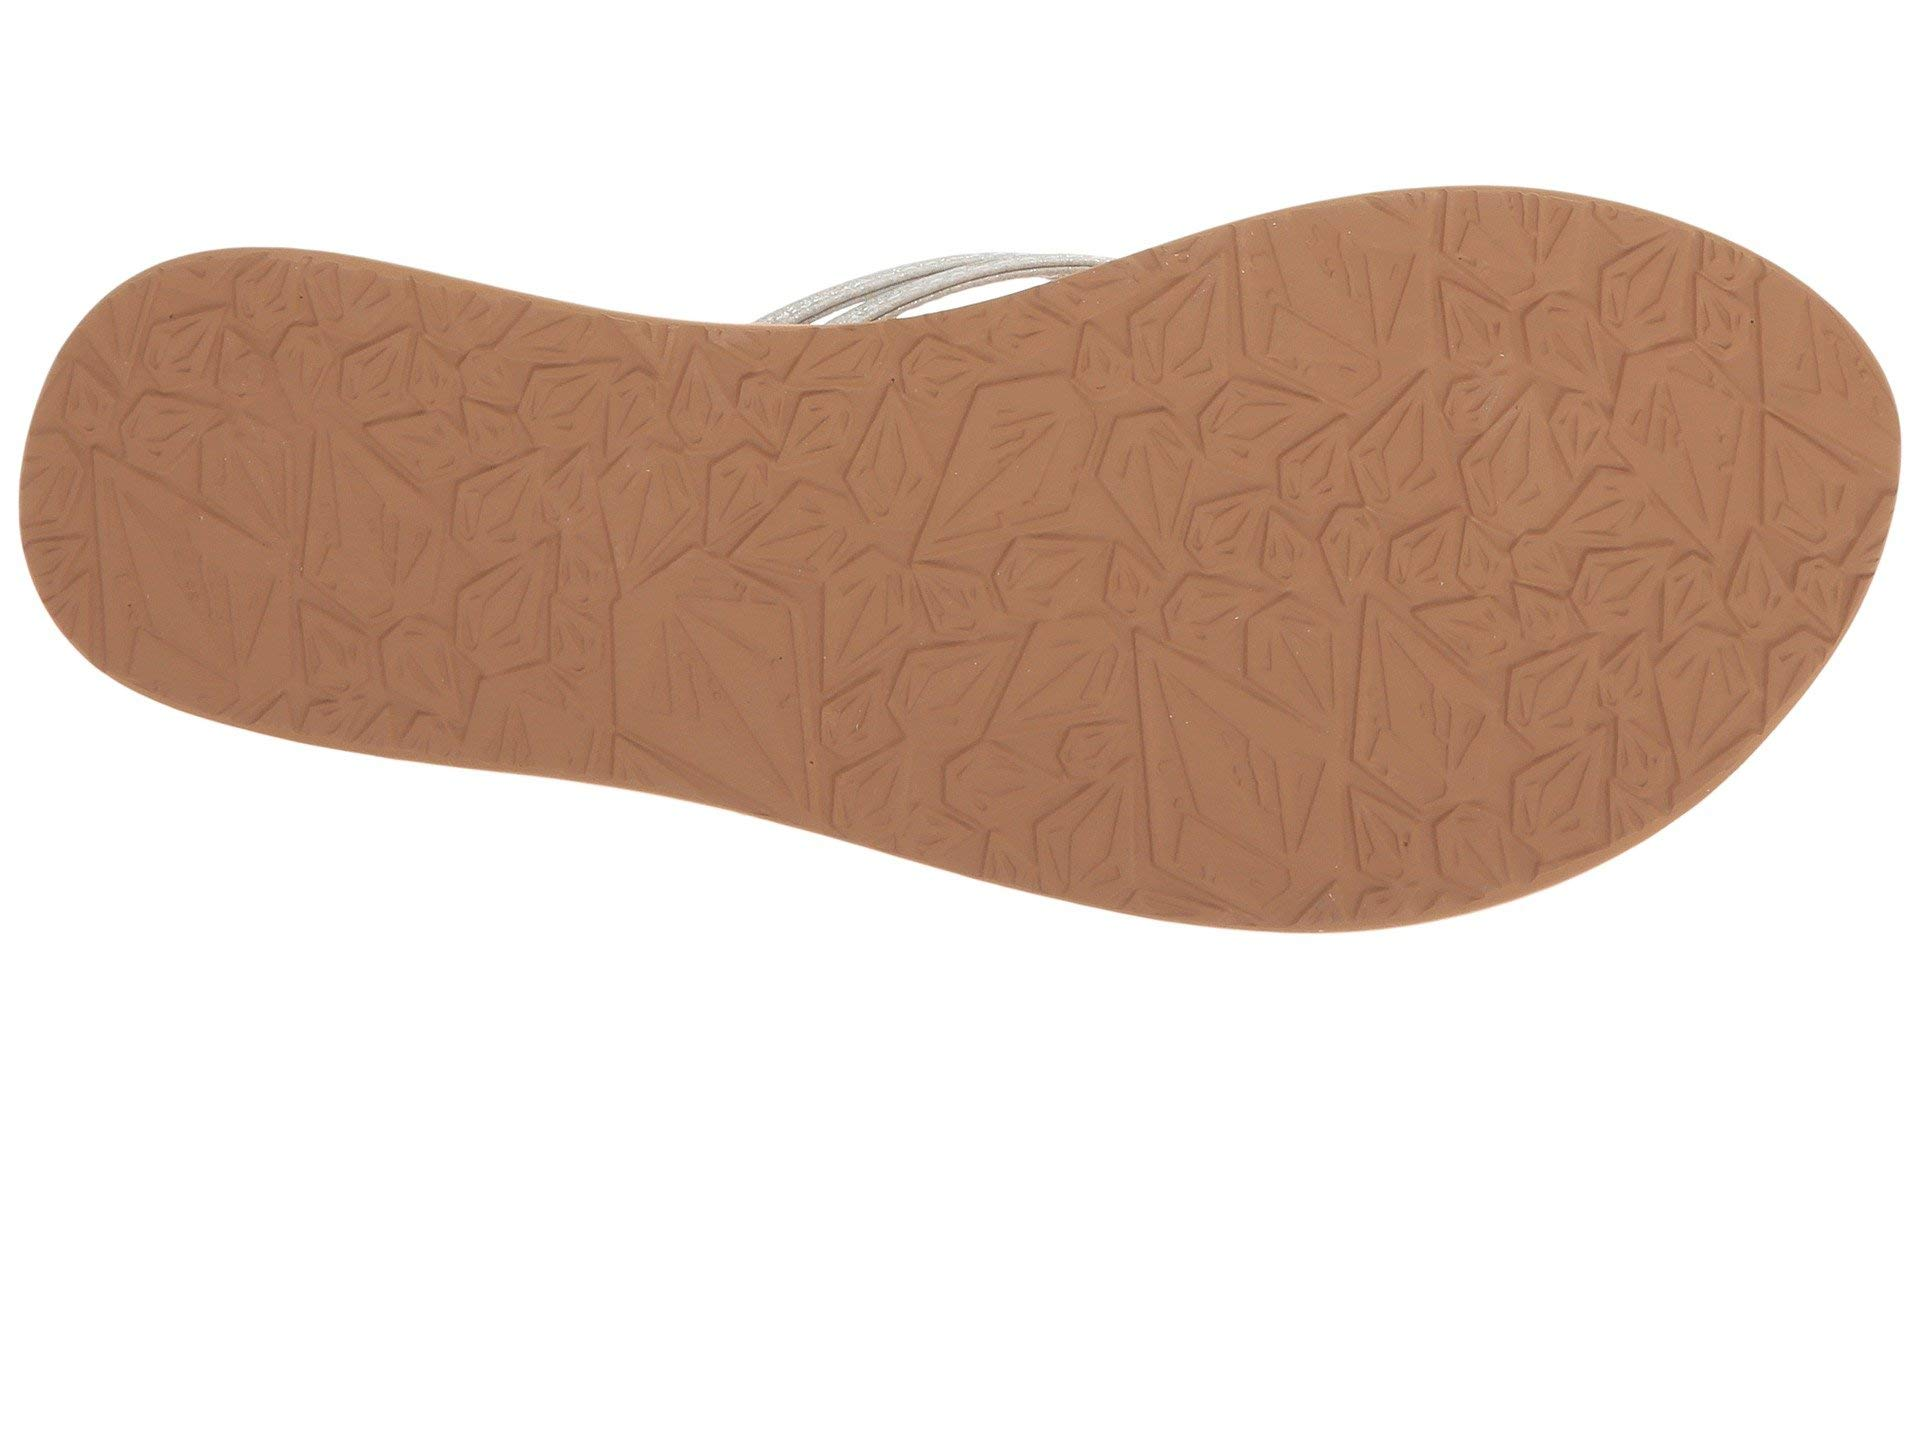other: (1247, 230, 1693, 737)
polygon: (1247, 230, 1693, 737), (541, 534, 993, 850)
quad: (1247, 230, 1693, 737), (541, 534, 993, 850)
triangle: (1247, 230, 1693, 737), (541, 534, 993, 850)
